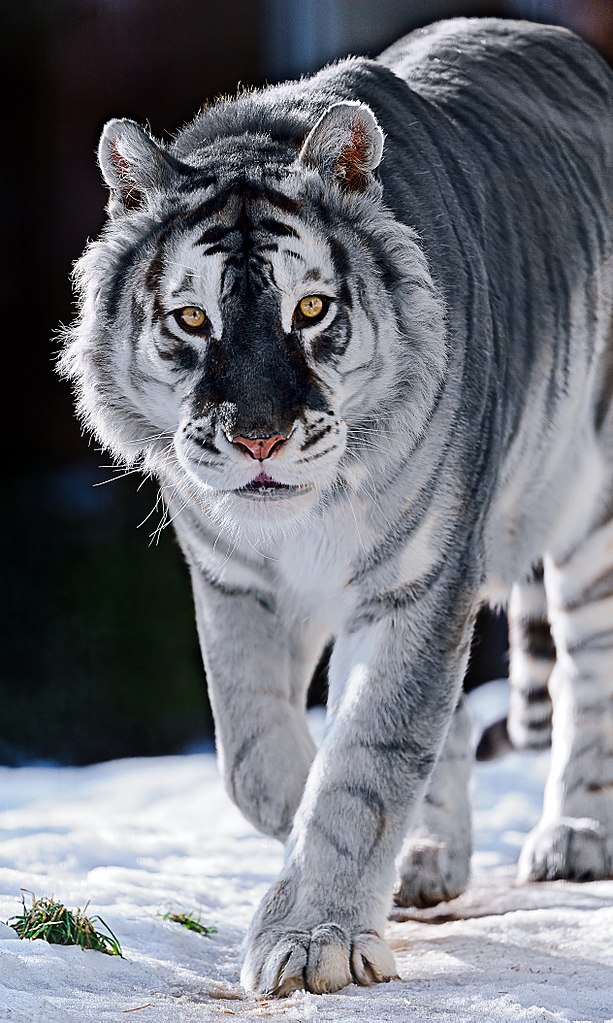Tiger: (56, 24, 609, 1023)
